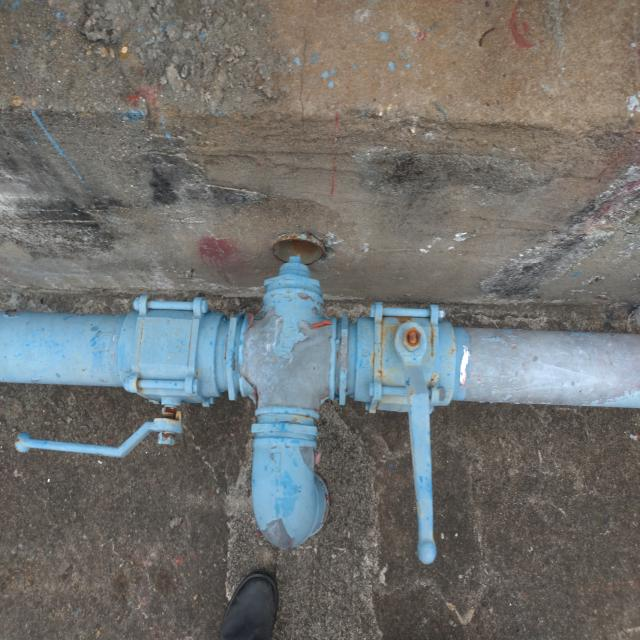gas: (1, 305, 640, 410), (251, 257, 320, 546)
